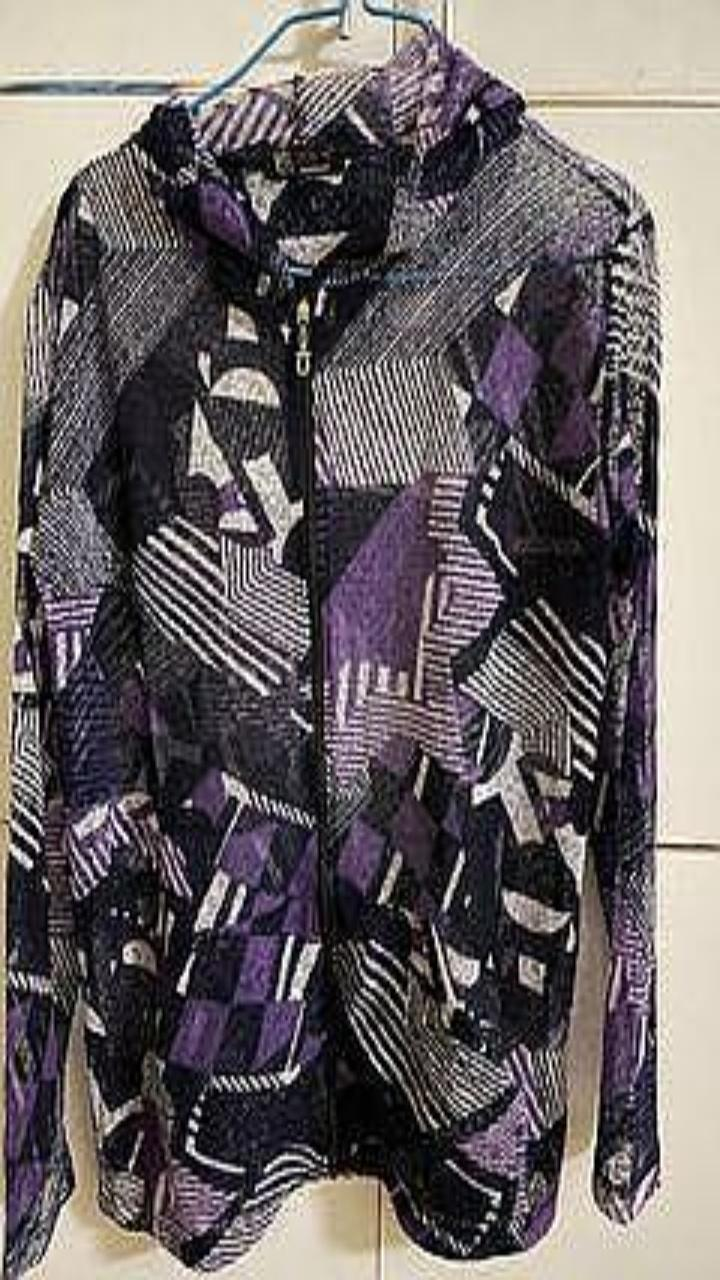Sports_Jacket: (4, 24, 660, 1279)
